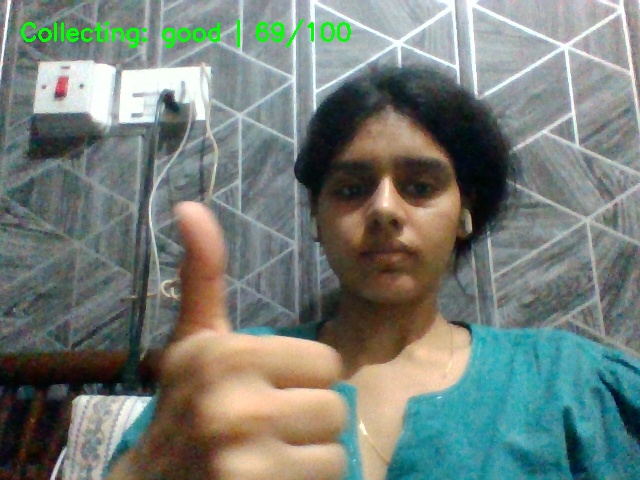good: (99, 180, 453, 480)
